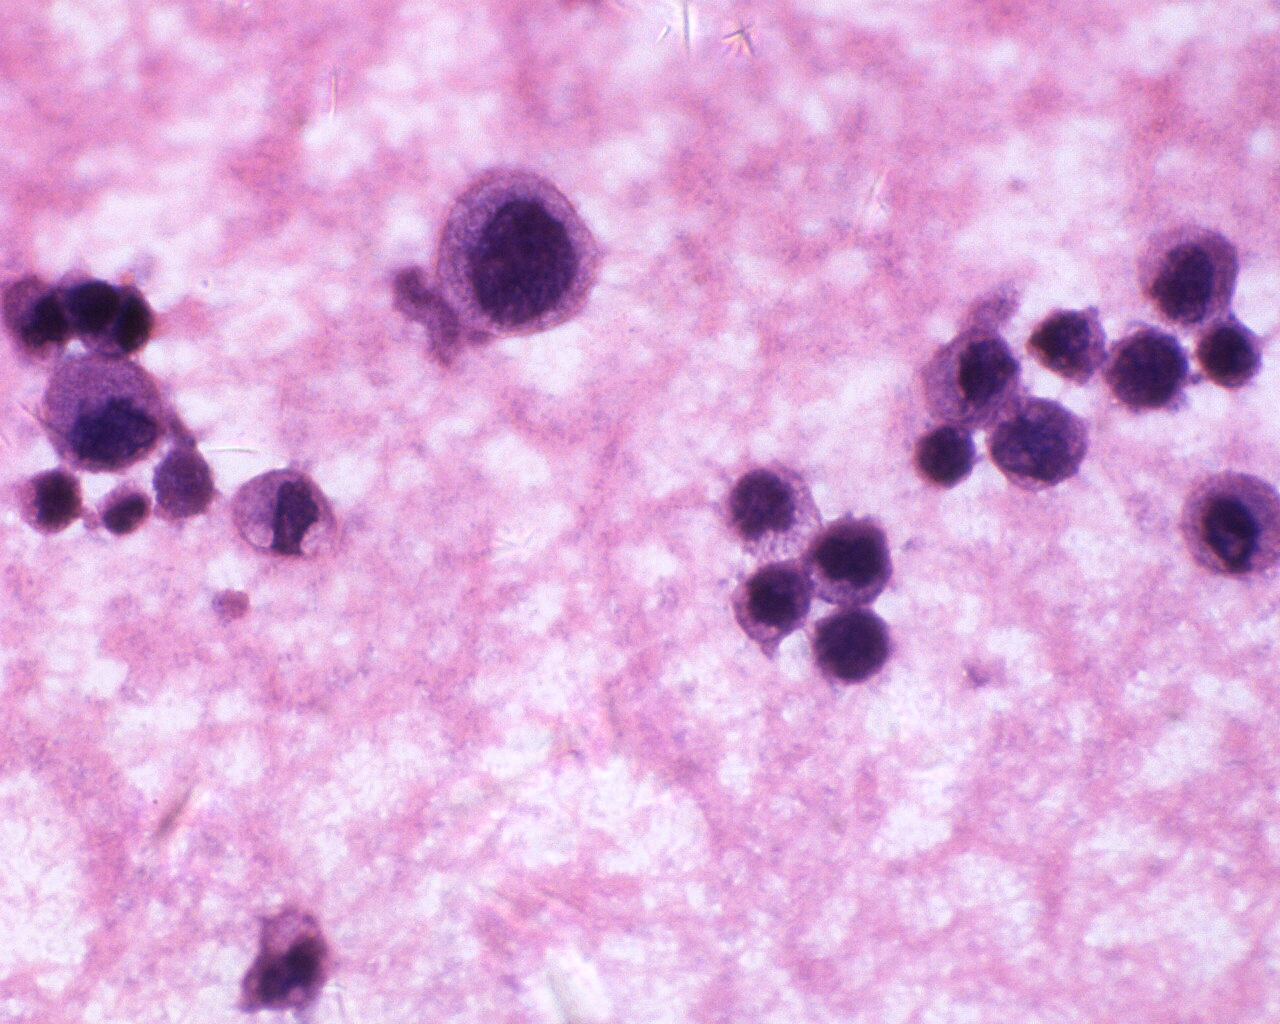ab: (437, 162, 607, 344), (37, 352, 162, 478), (1177, 467, 1280, 583), (1135, 216, 1243, 322), (229, 466, 343, 561), (924, 327, 1021, 432), (994, 396, 1091, 488), (804, 512, 897, 607), (1099, 322, 1188, 414), (808, 607, 894, 686), (1027, 299, 1106, 387), (734, 560, 811, 649), (1193, 311, 1269, 392), (17, 463, 90, 542)
